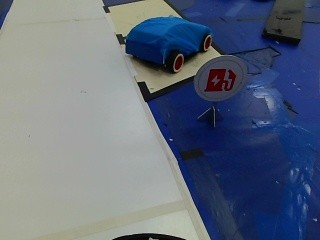battery: (191, 58, 245, 103)
car: (123, 14, 212, 70)
